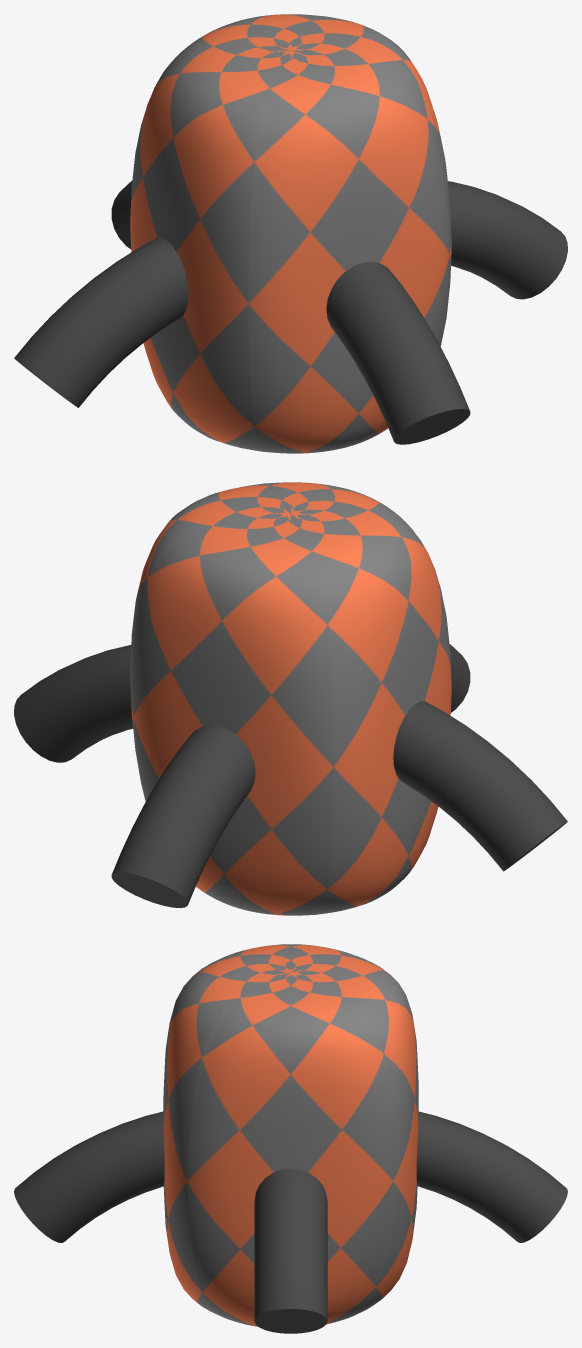
File: Body(Oblong)+Colour(More_Orange)+Arms(Bent_Down)+Pattern(Diamond).fbx
3 views of the same model, one above another, from view 1: azimuth 30°, elevation 25°; view 2: azimuth 150°, elevation 25°; view 3: azimuth 270°, elevation 25° (orthographic). The views are drawn at different scales.
Visible parts, largest first — view 1: Body(Oblong)+Colour(More_Orange)+Arms(Bent_Down)+Pattern(Dia (×5); view 2: Body(Oblong)+Colour(More_Orange)+Arms(Bent_Down)+Pattern(Dia (×5); view 3: Body(Oblong)+Colour(More_Orange)+Arms(Bent_Down)+Pattern(Dia (×4).
Part boxes in pixels (x1,y1,x2,y2): Body(Oblong)+Colour(More_Orange)+Arms(Bent_Down)+Pattern(Dia (×5): (14,14,567,453); Body(Oblong)+Colour(More_Orange)+Arms(Bent_Down)+Pattern(Dia (×5): (14,482,567,915); Body(Oblong)+Colour(More_Orange)+Arms(Bent_Down)+Pattern(Dia (×4): (14,944,567,1333).
Bounding box in the file's own units: 60.67 × 40 × 60.67.
2 materials, 2 textured.
